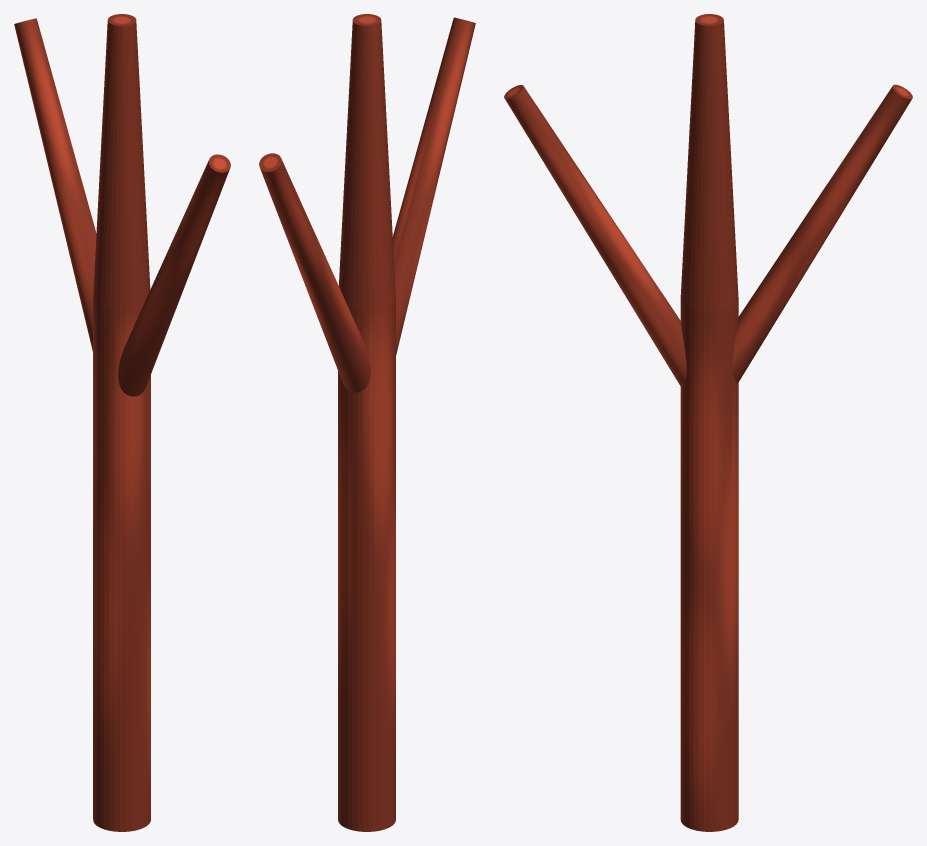
The model's file is Arm.fbx.
The picture shows the model from 3 angles, left to right: view 1: azimuth 30°, elevation 25°; view 2: azimuth 150°, elevation 25°; view 3: azimuth 270°, elevation 25°; orthographic projection.
Visible parts, largest first — view 1: Arm; view 2: Arm; view 3: Arm.
Part boxes in pixels (box(x1,y1,x2,y2)): Arm: box(14, 14, 230, 831); Arm: box(259, 14, 475, 831); Arm: box(504, 14, 912, 831).
Bounding box in the file's own units: 17.85 × 272 × 126.
